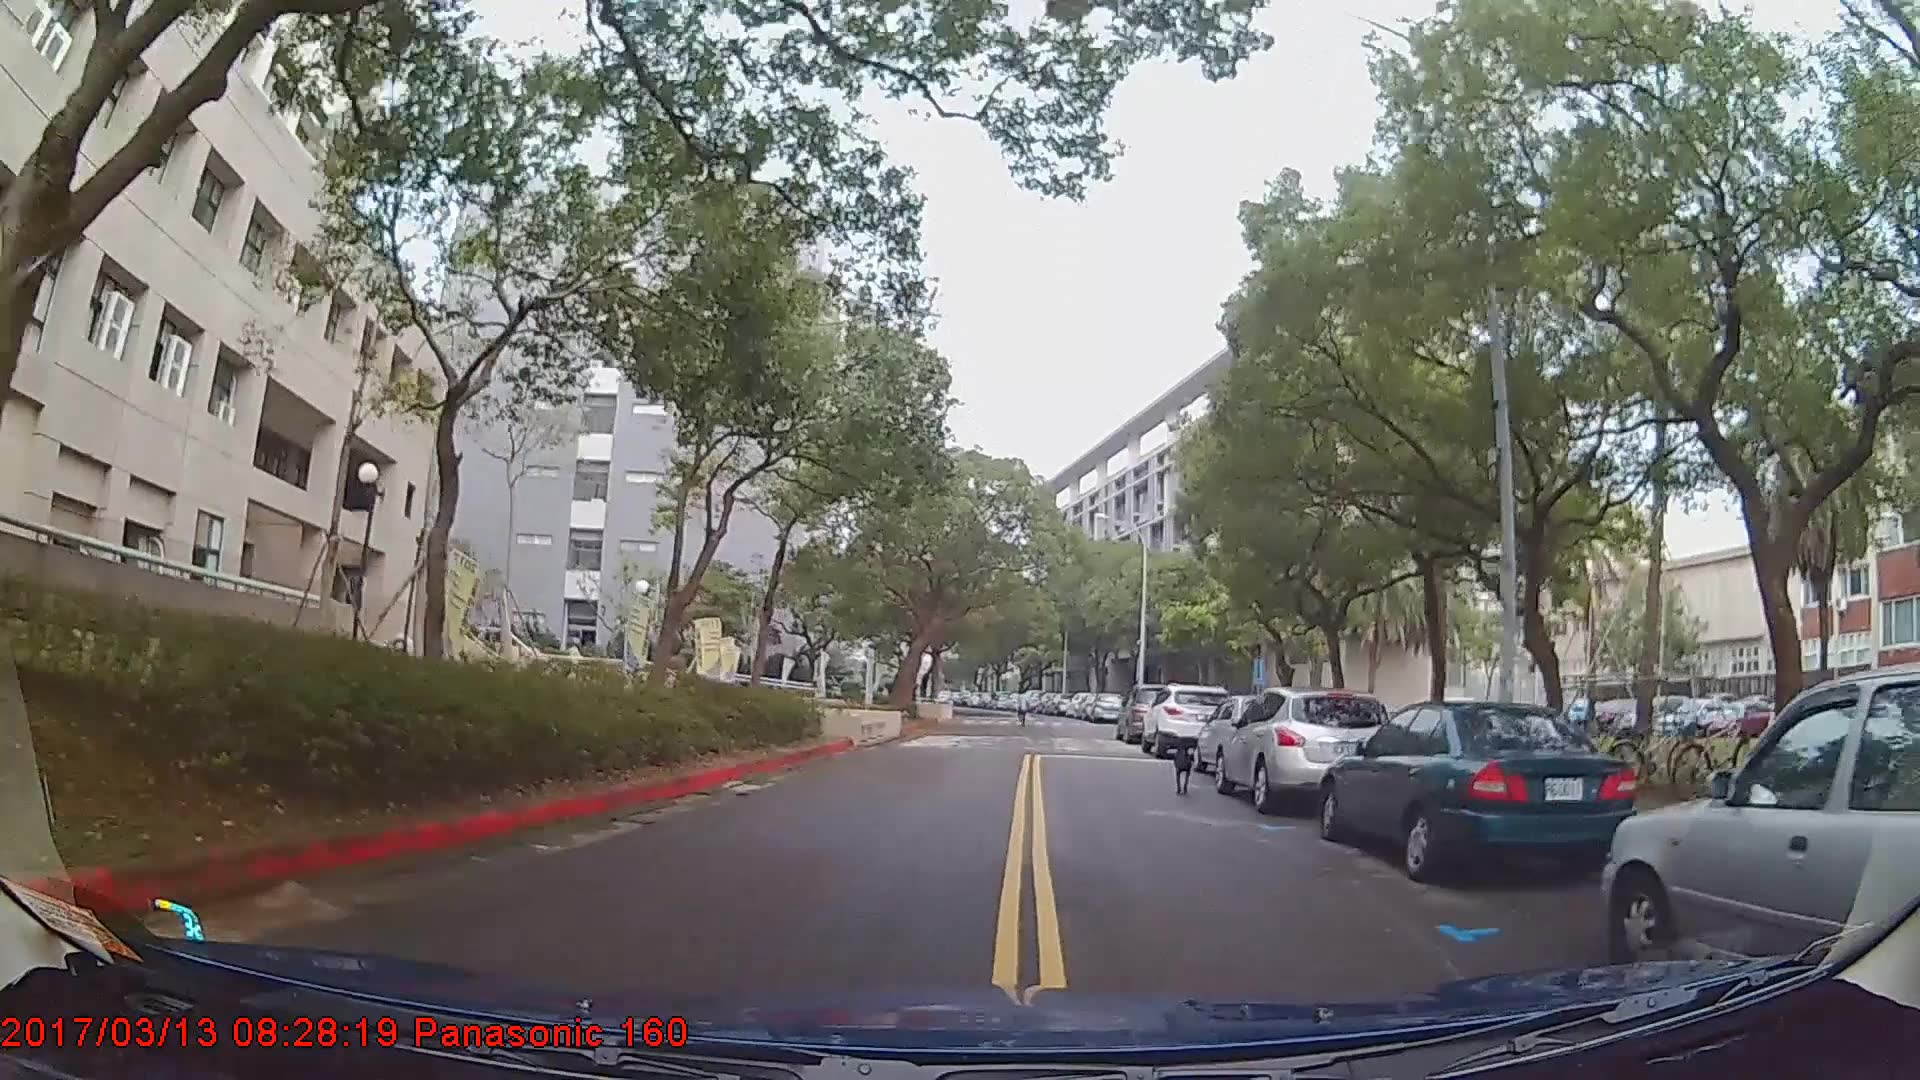pedestrian: (1012, 687, 1032, 727)
vehicle: (1603, 656, 1920, 997), (1317, 699, 1640, 882), (1211, 687, 1396, 818), (1141, 683, 1233, 756), (1115, 682, 1183, 743), (1086, 687, 1124, 720)
